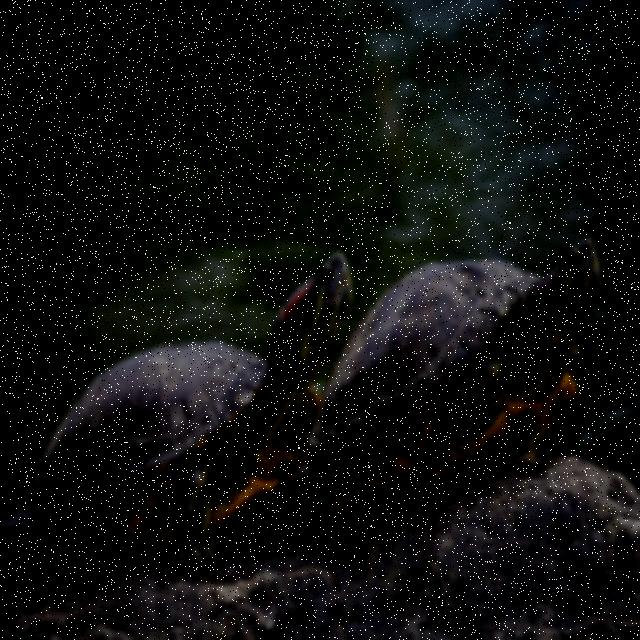tortoise: (43, 243, 374, 545)
